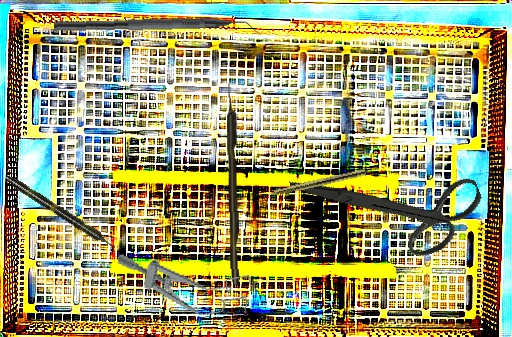Chopper: (53, 14, 262, 46)
Handpiece: (3, 172, 118, 253), (255, 167, 367, 201)
Hook Surgical: (226, 81, 240, 286)
Iris Scissors: (288, 116, 495, 294)
Speculum: (110, 243, 258, 327)
